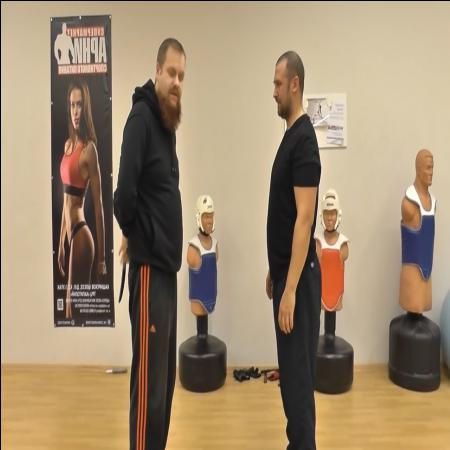long weapon: (116, 240, 127, 304)
